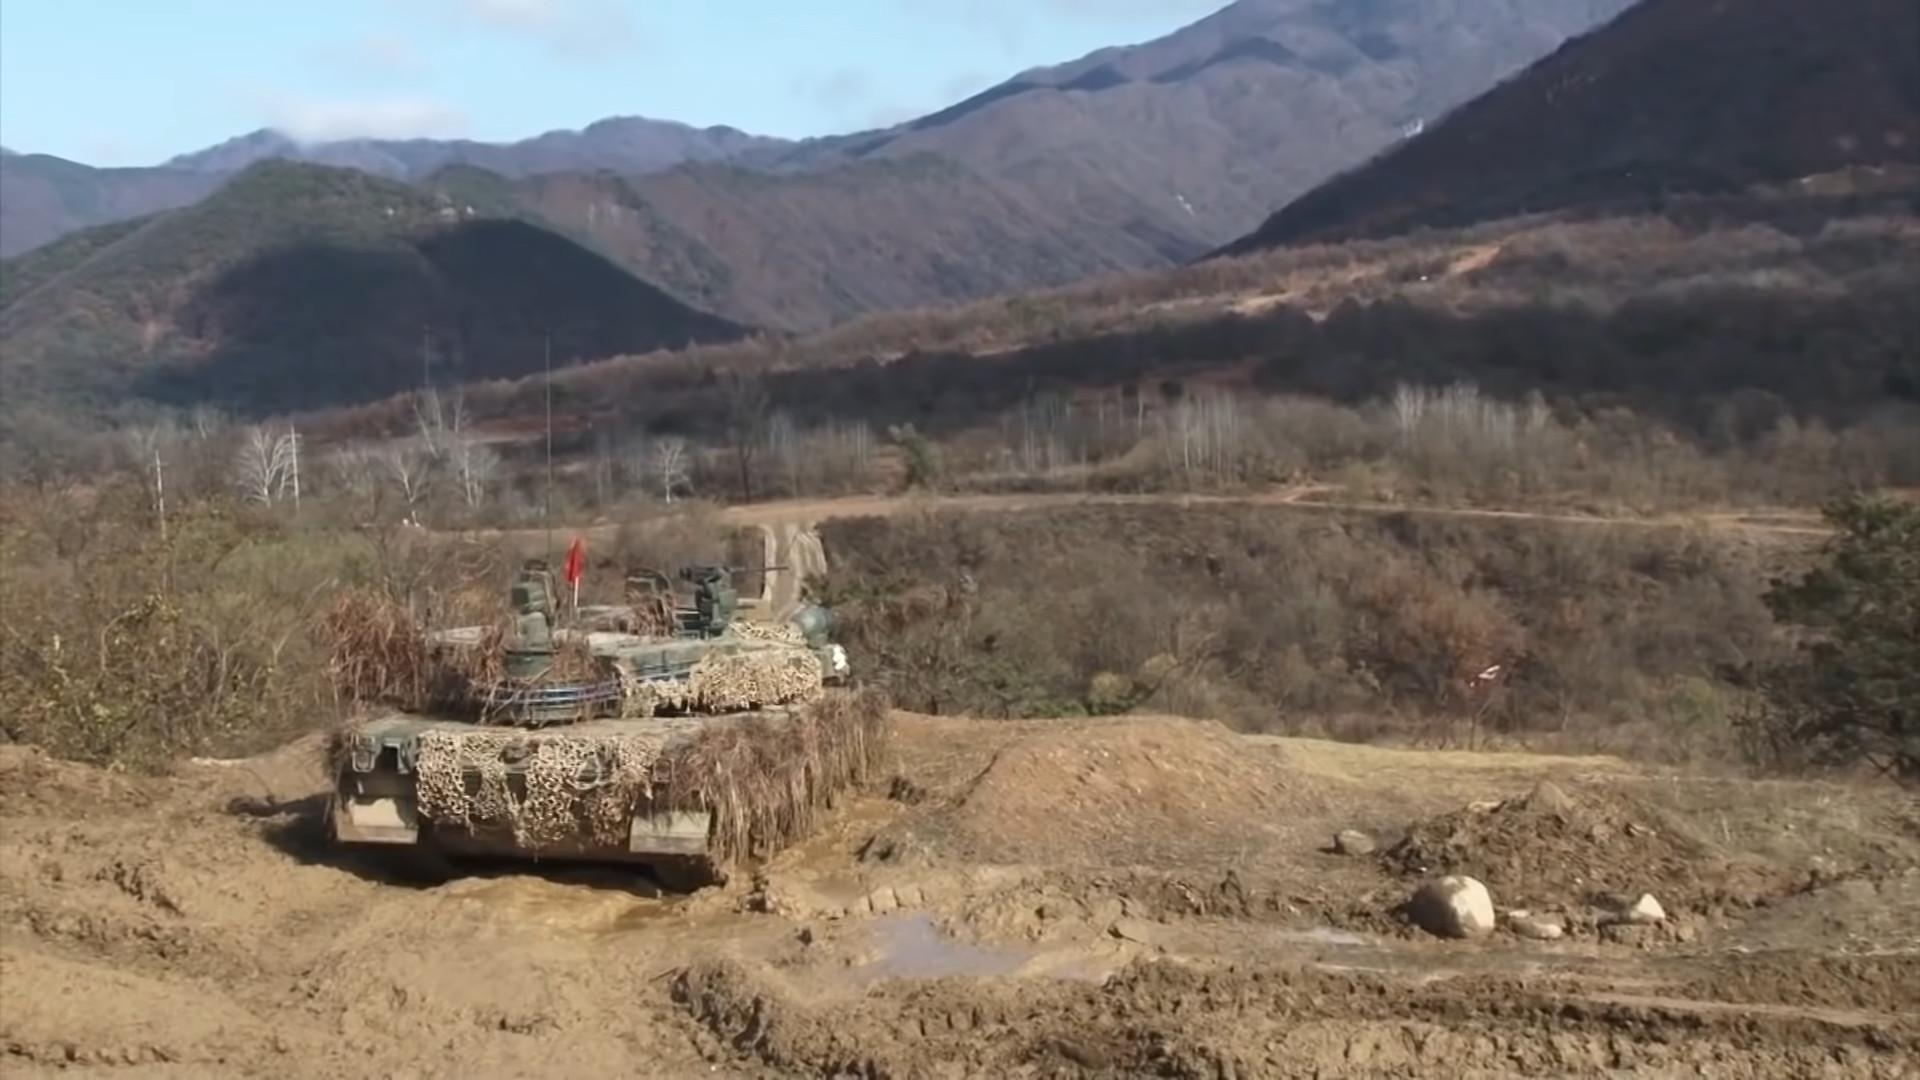tank: (334, 563, 891, 891)
